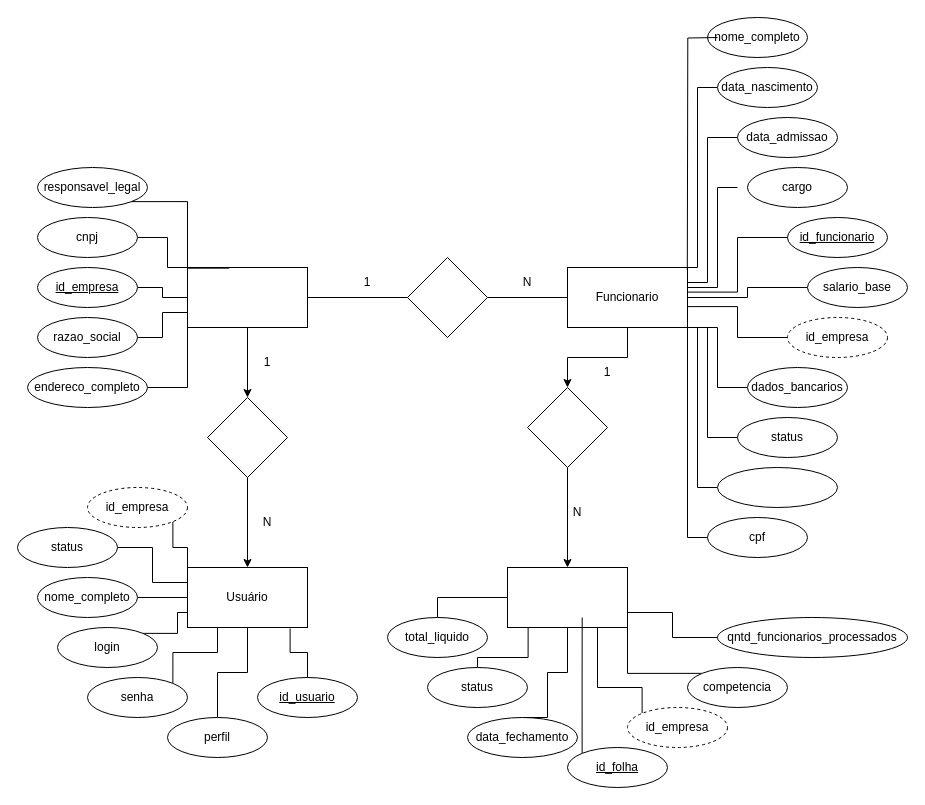
This 925x805 diagram has some shape labels left out. Each missing label, with the centre of its shape:
"data_desligamento" belongs at point (777, 487).
"Emprega" belongs at point (447, 297).
"Empresa" belongs at point (247, 297).
"Folha de Pagamento" belongs at point (567, 597).
"Possui" belongs at point (247, 437).
"Recebe" belongs at point (567, 427).
